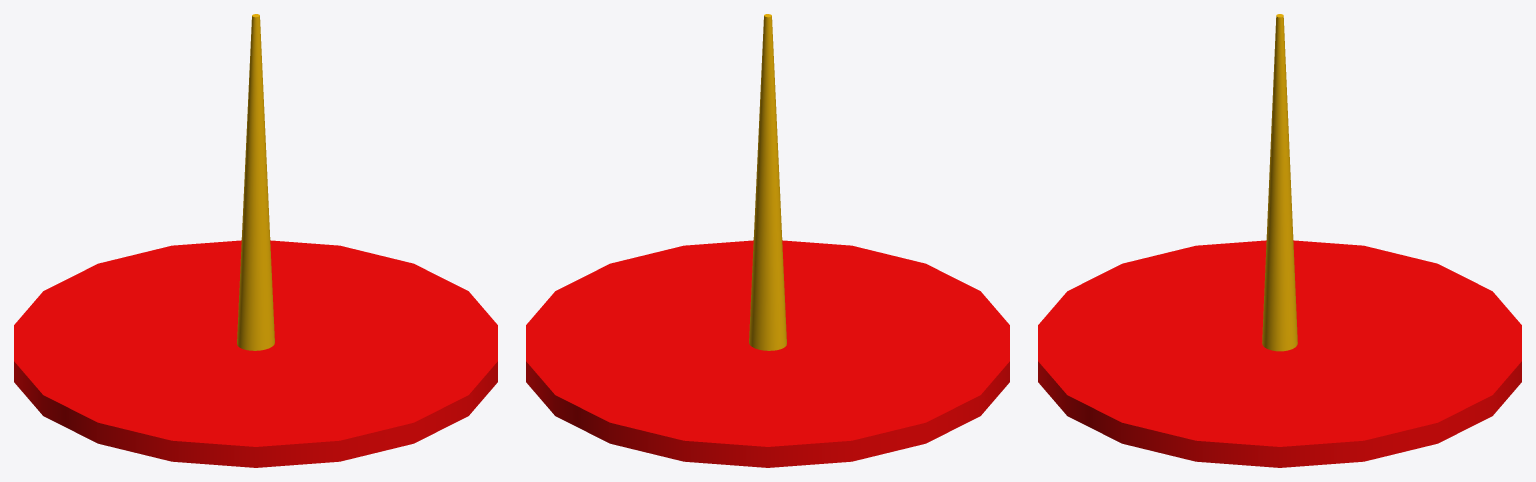
File: othumbtack_red.FBX
3 views of the same model, side by side, from view 1: azimuth 30°, elevation 25°; view 2: azimuth 150°, elevation 25°; view 3: azimuth 270°, elevation 25° (orthographic).
Parts seen in each view (by area): view 1: Cylinder002, Cone001; view 2: Cylinder002, Cone001; view 3: Cylinder002, Cone001.
Boxes of the visible parts, box(x1,y1,x2,y2) form: Cylinder002: box(14, 240, 497, 467); Cone001: box(237, 14, 274, 350); Cylinder002: box(526, 240, 1009, 467); Cone001: box(749, 14, 786, 350); Cylinder002: box(1038, 240, 1521, 467); Cone001: box(1262, 14, 1297, 351).
Bounding box in the file's own units: 2.68 × 2.64 × 2.1.
2 materials, 2 textured.
